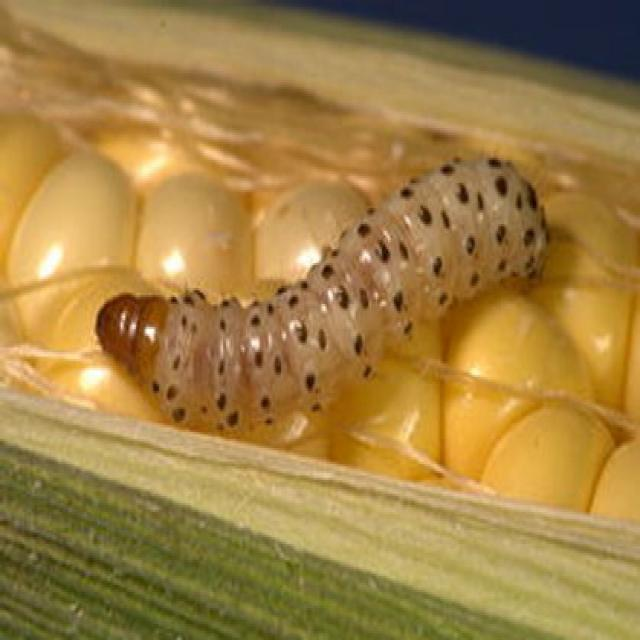cornborer-Larva-: (72, 151, 570, 450)
